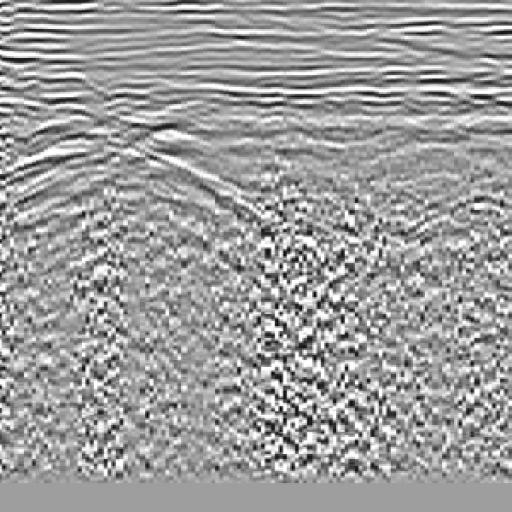metalic: (354, 54, 512, 286)
